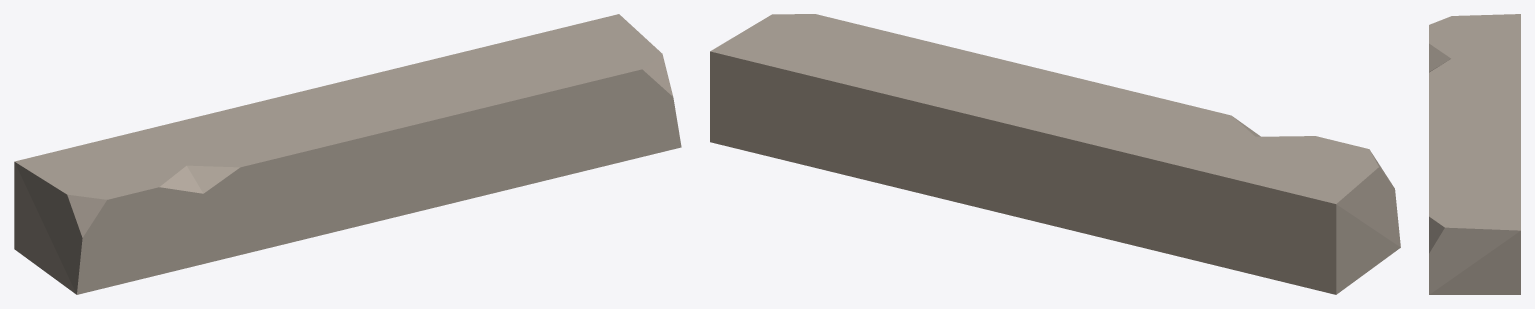
The model's file is SM_Bld_Village_Stairs_Small_01.fbx.
3 views of the same model, side by side, from view 1: azimuth 30°, elevation 25°; view 2: azimuth 150°, elevation 25°; view 3: azimuth 270°, elevation 25° (orthographic). The views are drawn at different scales.
Parts seen in each view (by area): view 1: SM_Bld_Village_Stairs_Small_01; view 2: SM_Bld_Village_Stairs_Small_01; view 3: SM_Bld_Village_Stairs_Small_01.
Boxes of the visible parts, left/top/right/bottom form: SM_Bld_Village_Stairs_Small_01: left=14, top=14, right=681, bottom=294; SM_Bld_Village_Stairs_Small_01: left=710, top=14, right=1400, bottom=294; SM_Bld_Village_Stairs_Small_01: left=1429, top=14, right=1520, bottom=294.
Size of the model in its own units: 184 by 25.45 by 32.88.
